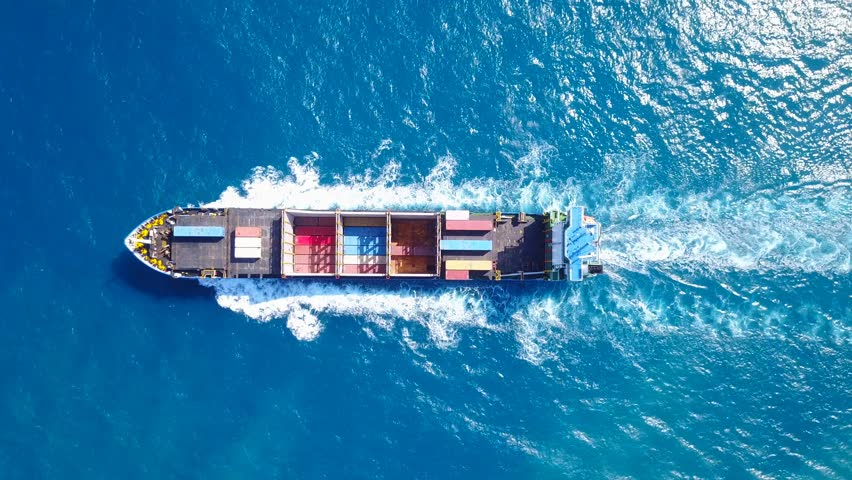ship: (79, 187, 629, 337)
